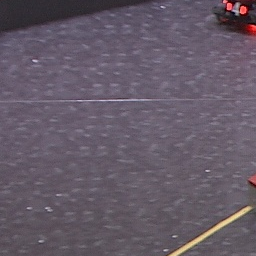Red: (226, 1, 247, 16)
Robot: (209, 1, 256, 27)
